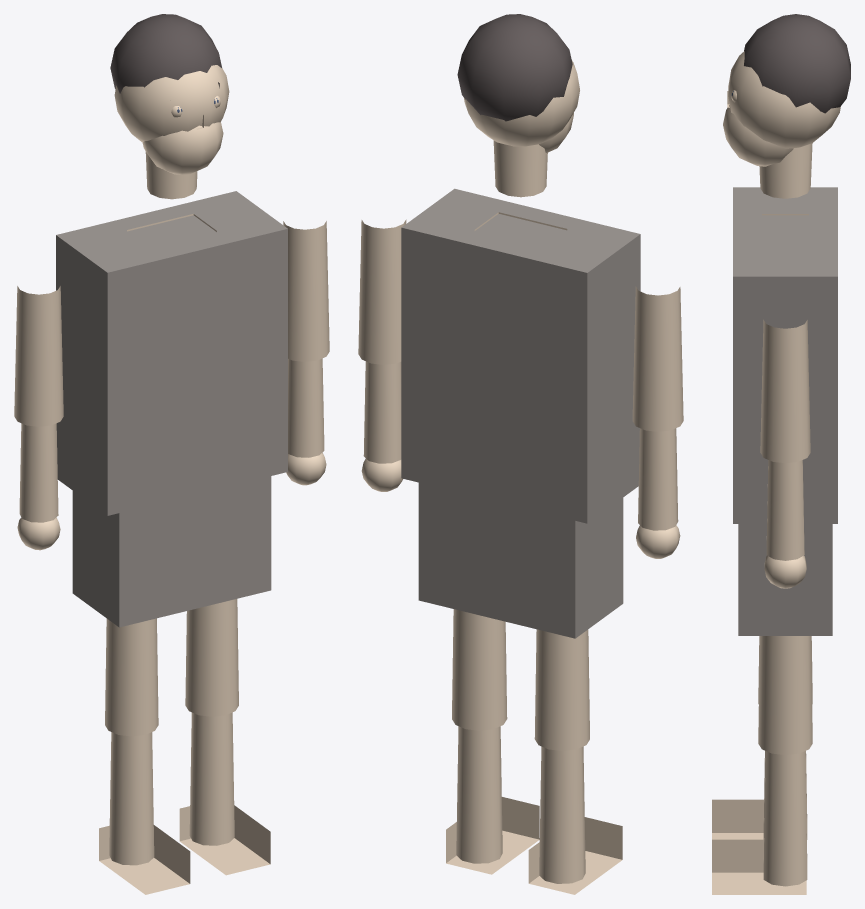
File: body.glb
The picture shows the model from 3 angles, left to right: view 1: azimuth 30°, elevation 25°; view 2: azimuth 150°, elevation 25°; view 3: azimuth 270°, elevation 25°; orthographic projection. The views are drawn at different scales.
Parts seen in each view (by area): view 1: Cloth, Skin, Hair; view 2: Cloth, Skin, Hair; view 3: Skin, Cloth, Hair.
Boxes of the visible parts, x1,y1,x2,y2 form: Cloth: [56, 191, 287, 627]; Skin: [14, 65, 329, 894]; Hair: [110, 14, 221, 93]; Cloth: [401, 188, 640, 638]; Skin: [358, 60, 683, 894]; Hair: [457, 14, 572, 121]; Skin: [712, 51, 840, 894]; Cloth: [733, 187, 837, 635]; Hair: [744, 14, 850, 113].
Size of the model in its own units: 0.6911 by 1.78 by 0.2646.
